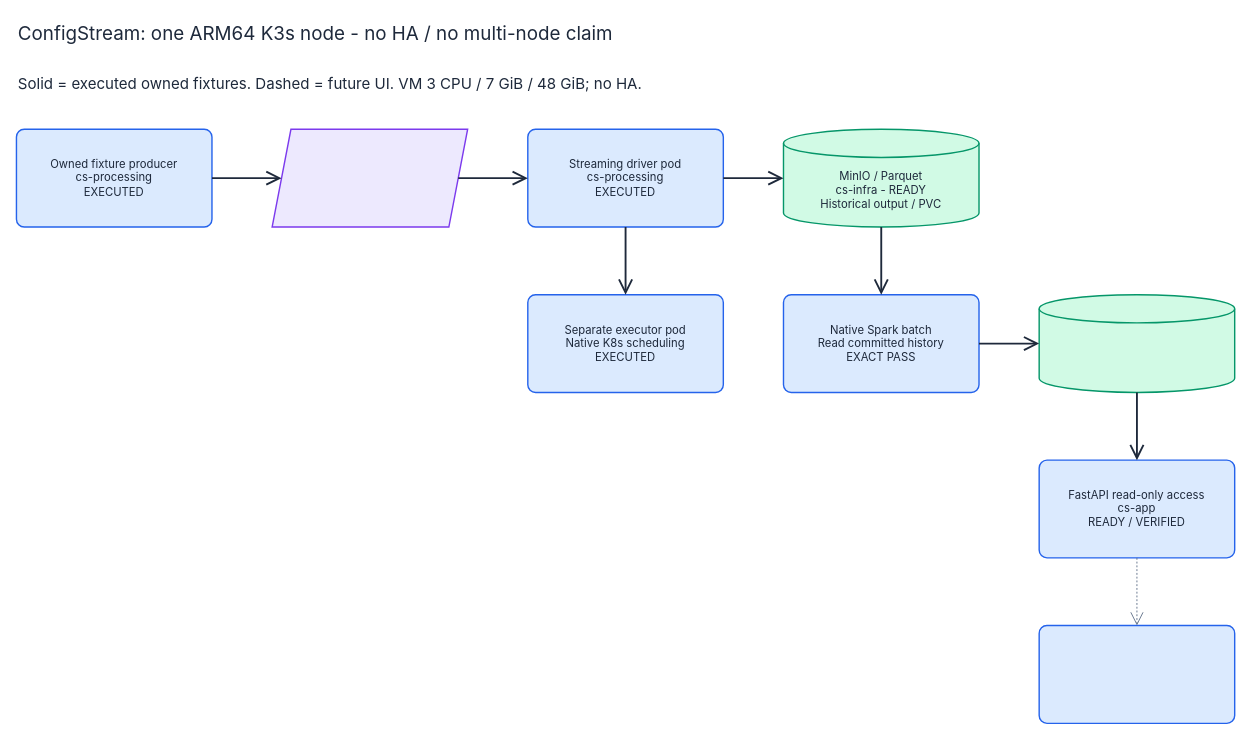
This 1252x740 diagram has some shape labels left out. The box of each missing label's shape, as (x1, y1, x2, y2) in pixels:
Elasticsearch metadata cs-app READY / VERIFIED: (1038, 294, 1235, 393)
Future visualization Separate UI phase NOT IMPLEMENTED: (1038, 624, 1235, 724)
Kafka / Strimzi cs-infra - READY RF1 / persistent local PVC: (271, 128, 468, 227)
